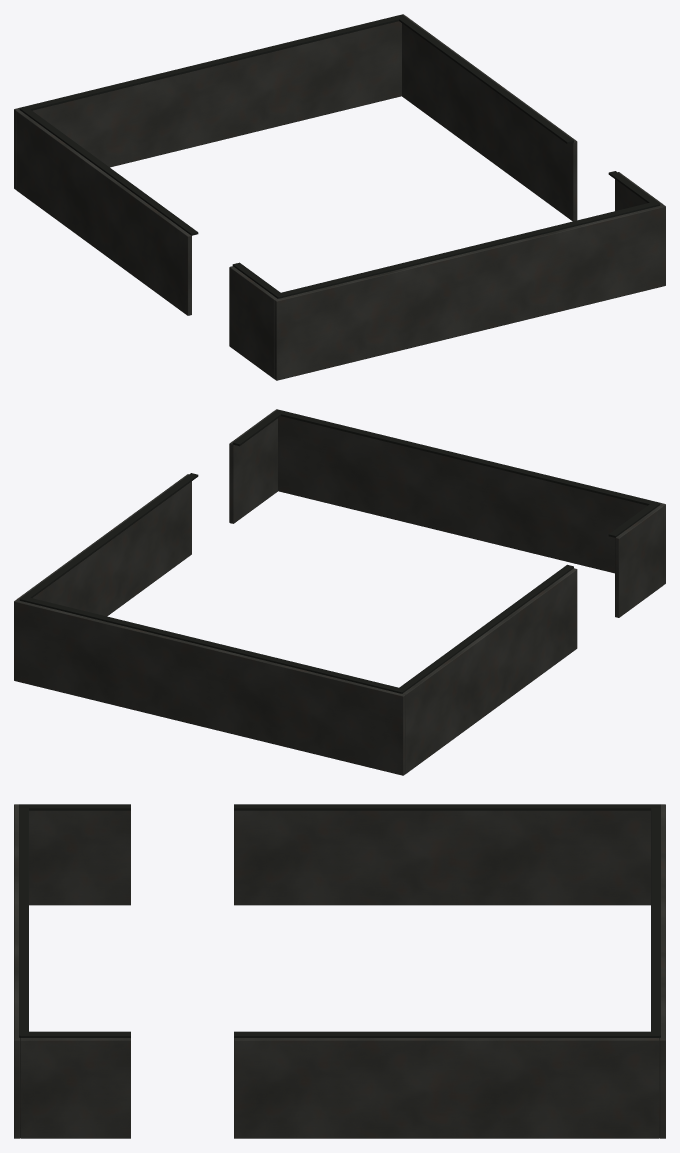
The model's file is EXIT_SealTrim.fbx.
3 views of the same model, one above another, from view 1: azimuth 30°, elevation 25°; view 2: azimuth 150°, elevation 25°; view 3: azimuth 270°, elevation 25° (orthographic). The views are drawn at different scales.
Parts seen in each view (by area): view 1: EXIT_SealTrim; view 2: EXIT_SealTrim; view 3: EXIT_SealTrim.
Boxes of the visible parts, <box> form: EXIT_SealTrim: <box>14,14,665,380</box>; EXIT_SealTrim: <box>14,409,665,775</box>; EXIT_SealTrim: <box>14,804,665,1138</box>.
Size of the model in its own units: 3.58 by 0.715 by 4.18.
